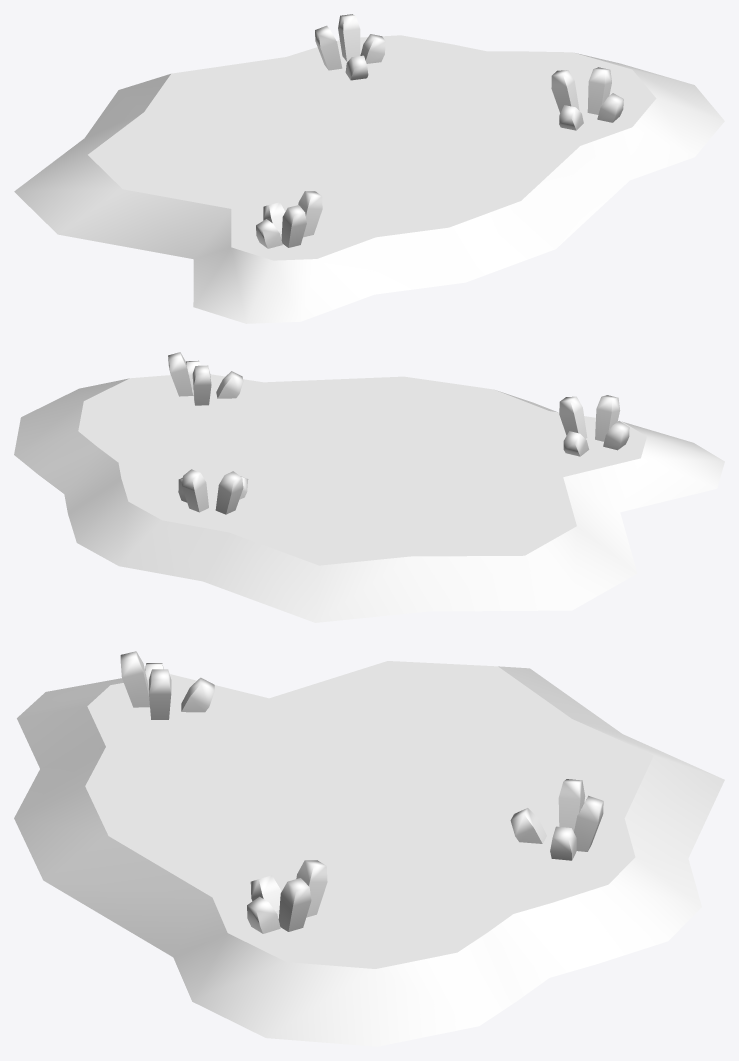
Rendered from patch-grass-foliage.glb.
The picture shows the model from 3 angles, top to bottom: view 1: azimuth 30°, elevation 25°; view 2: azimuth 150°, elevation 25°; view 3: azimuth 270°, elevation 25°; orthographic projection. The views are drawn at different scales.
Parts seen in each view (by area): view 1: patch-grass-foliage; view 2: patch-grass-foliage; view 3: patch-grass-foliage.
Boxes of the visible parts, x1,y1,x2,y2 form: patch-grass-foliage: [14, 14, 724, 323]; patch-grass-foliage: [14, 352, 724, 622]; patch-grass-foliage: [14, 651, 724, 1046].
Size of the model in its own units: 5.27 by 0.5639 by 4.11.
1 material, 1 textured.
